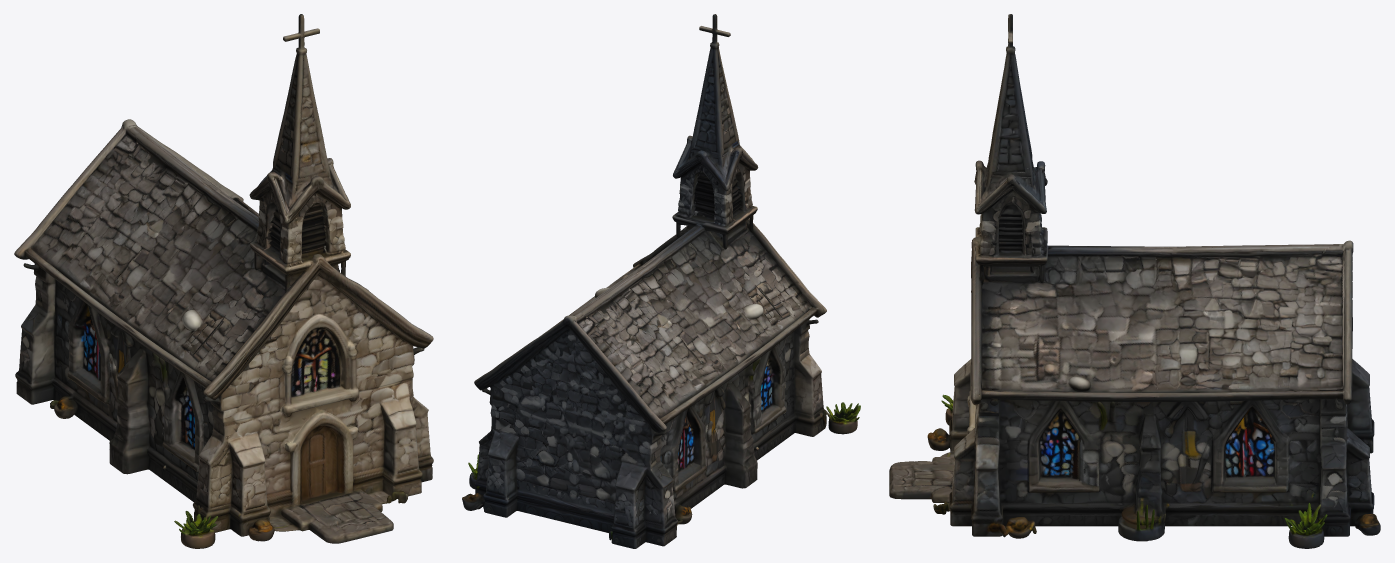
File: building-chapel.glb
The picture shows the model from 3 angles, left to right: view 1: azimuth 30°, elevation 25°; view 2: azimuth 150°, elevation 25°; view 3: azimuth 270°, elevation 25°; orthographic projection. The views are drawn at different scales.
Parts seen in each view (by area): view 1: tripo_node_d58fb0cd-c706-4a79-b3b8-1f6d28ddcc22; view 2: tripo_node_d58fb0cd-c706-4a79-b3b8-1f6d28ddcc22; view 3: tripo_node_d58fb0cd-c706-4a79-b3b8-1f6d28ddcc22.
Boxes of the visible parts, x1,y1,x2,y2 form: tripo_node_d58fb0cd-c706-4a79-b3b8-1f6d28ddcc22: (14,14,433,548); tripo_node_d58fb0cd-c706-4a79-b3b8-1f6d28ddcc22: (462,14,860,548); tripo_node_d58fb0cd-c706-4a79-b3b8-1f6d28ddcc22: (889,14,1380,548).
Size of the model in its own units: 6.32 by 10 by 9.48.
Materials: 1 (1 with a texture image).
